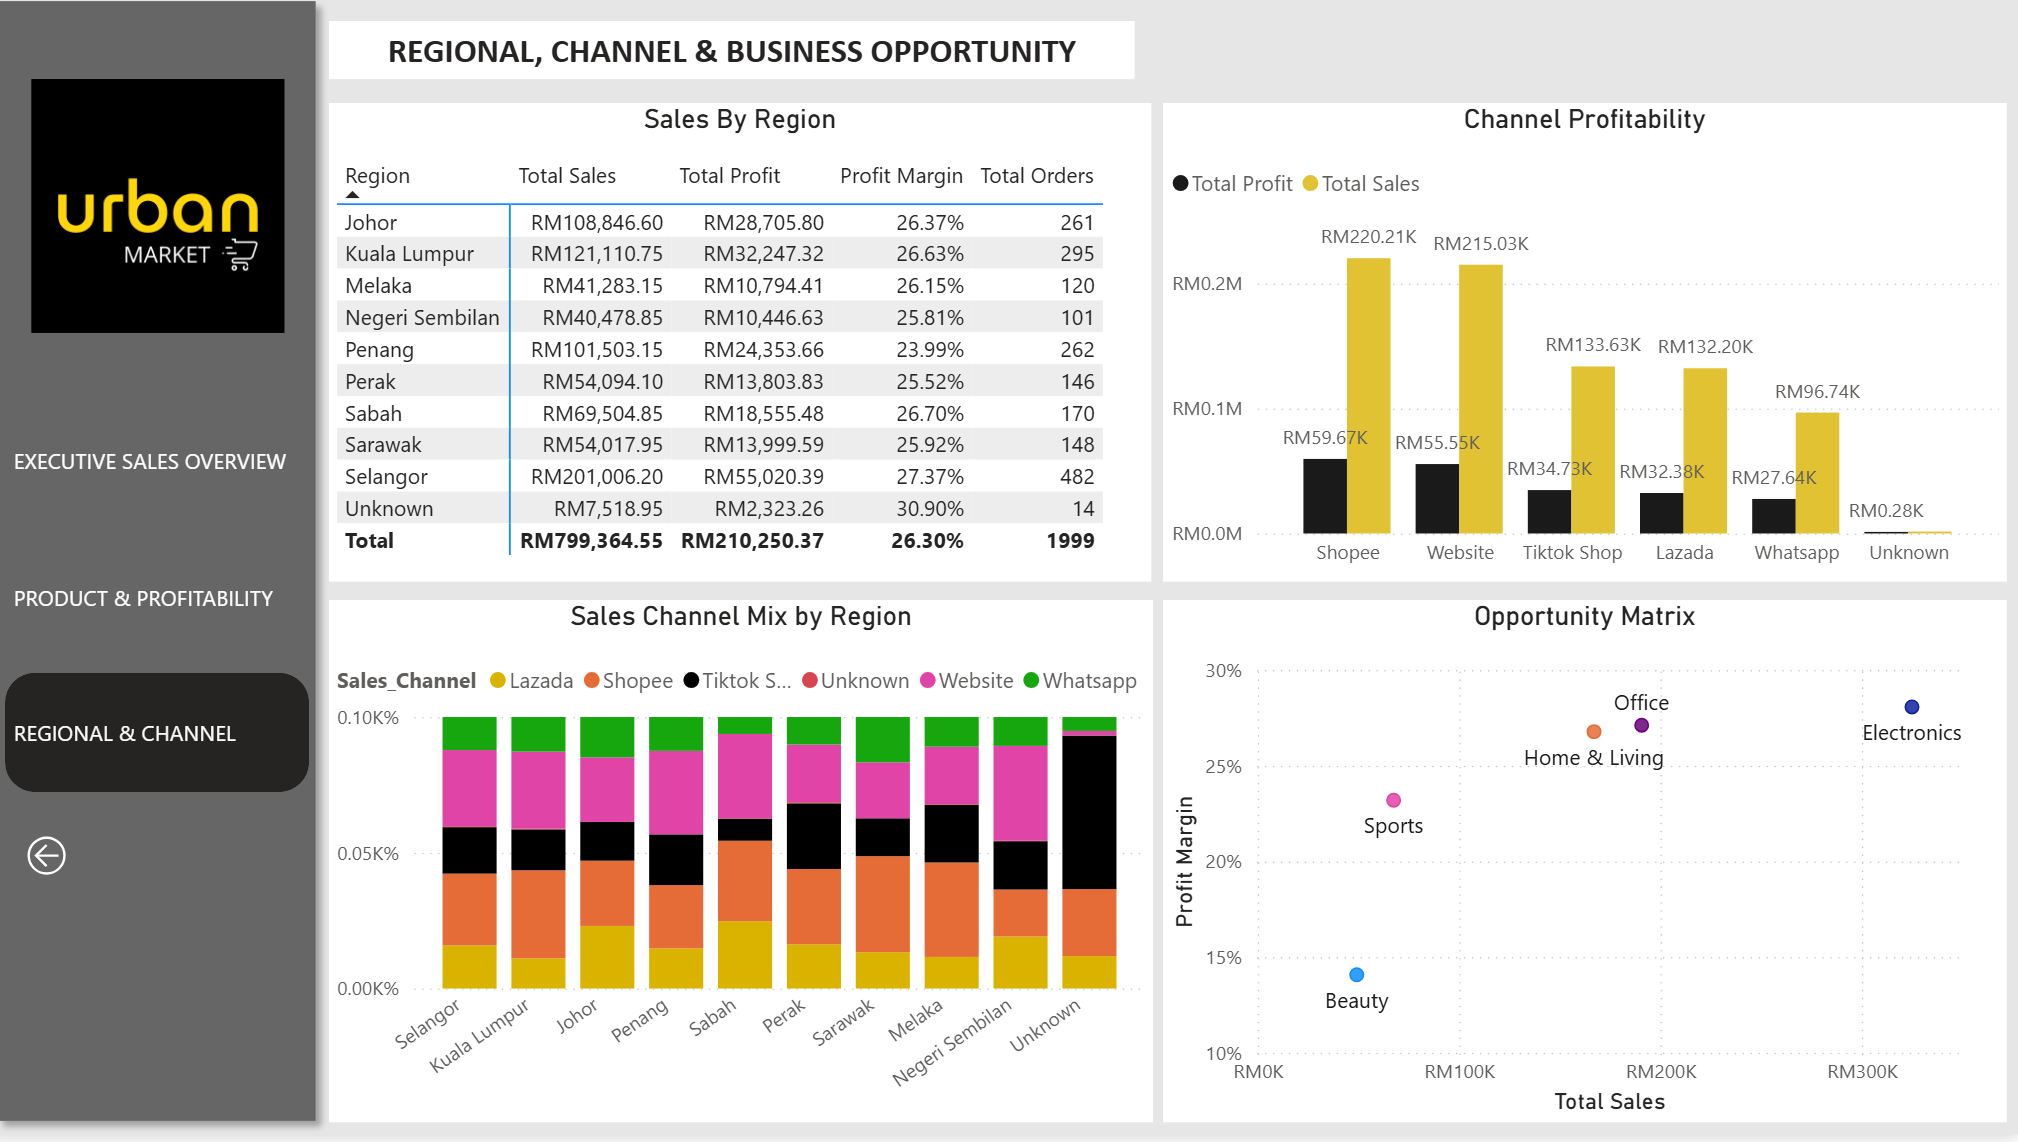

The dashboard page shown, as its layout file describes it:
{"tool":"powerbi","page":{"name":"REGIONAL & CHANNEL","canvas":[1280,720],"ordinal":2},"visuals":[{"type":"shape","box":[0,0,217.9,720.5],"z":0},{"type":"pageNavigator","box":[13.6,260,191.9,247.6],"z":1000},{"type":"actionButton","box":[22.3,527.4,37.1,34.7],"z":2000},{"type":"textbox","box":[217.3,21.4,506.2,36.4],"z":3000},{"type":"image","box":[18.8,57.7,182,159.4],"z":4000},{"type":"pivotTable","title":"Sales By Region","fields":{"Rows":["DimRegion.Region"],"Values":["FactSales.Total Sales","FactSales.Total Profit","FactSales.Profit Margin","FactSales.Total Orders"]},"box":[217.3,72.9,516.3,300.2],"z":5000},{"type":"hundredPercentStackedColumnChart","title":"Sales Channel Mix by Region","fields":{"Y":["FactSales.Total Sales"],"Series":["DimChannel.Sales_Channel"],"Category":["DimRegion.Region"]},"box":[217.3,384.4,517.5,327.9],"z":6000},{"type":"clusteredColumnChart","title":"Channel Profitability","fields":{"Category":["DimChannel.Sales_Channel"],"Y":["FactSales.Total Profit","FactSales.Total Sales"]},"box":[741.1,72.9,530.1,300.2],"z":7000},{"type":"scatterChart","title":"Opportunity Matrix","fields":{"X":["FactSales.Total Sales"],"Y":["FactSales.Profit Margin"],"Category":["DimProduct.Category"],"Series":["DimProduct.Category"]},"box":[741.1,384.4,530.1,327.9],"z":8000}]}

Visuals, with their boxes on the page's 1280x720 design canvas (x1, y1, x2, y2). These are canvas units, not pixel positions in the 2018x1142 screenshot, which may show the page scaled, cropped or inside an application window:
shape: (x1=0, y1=0, x2=218, y2=720)
pageNavigator: (x1=14, y1=260, x2=206, y2=508)
actionButton: (x1=22, y1=527, x2=59, y2=562)
textbox: (x1=217, y1=21, x2=724, y2=58)
image: (x1=19, y1=58, x2=201, y2=217)
"Sales By Region" pivotTable: (x1=217, y1=73, x2=734, y2=373)
"Sales Channel Mix by Region" hundredPercentStackedColumnChart: (x1=217, y1=384, x2=735, y2=712)
"Channel Profitability" clusteredColumnChart: (x1=741, y1=73, x2=1271, y2=373)
"Opportunity Matrix" scatterChart: (x1=741, y1=384, x2=1271, y2=712)
